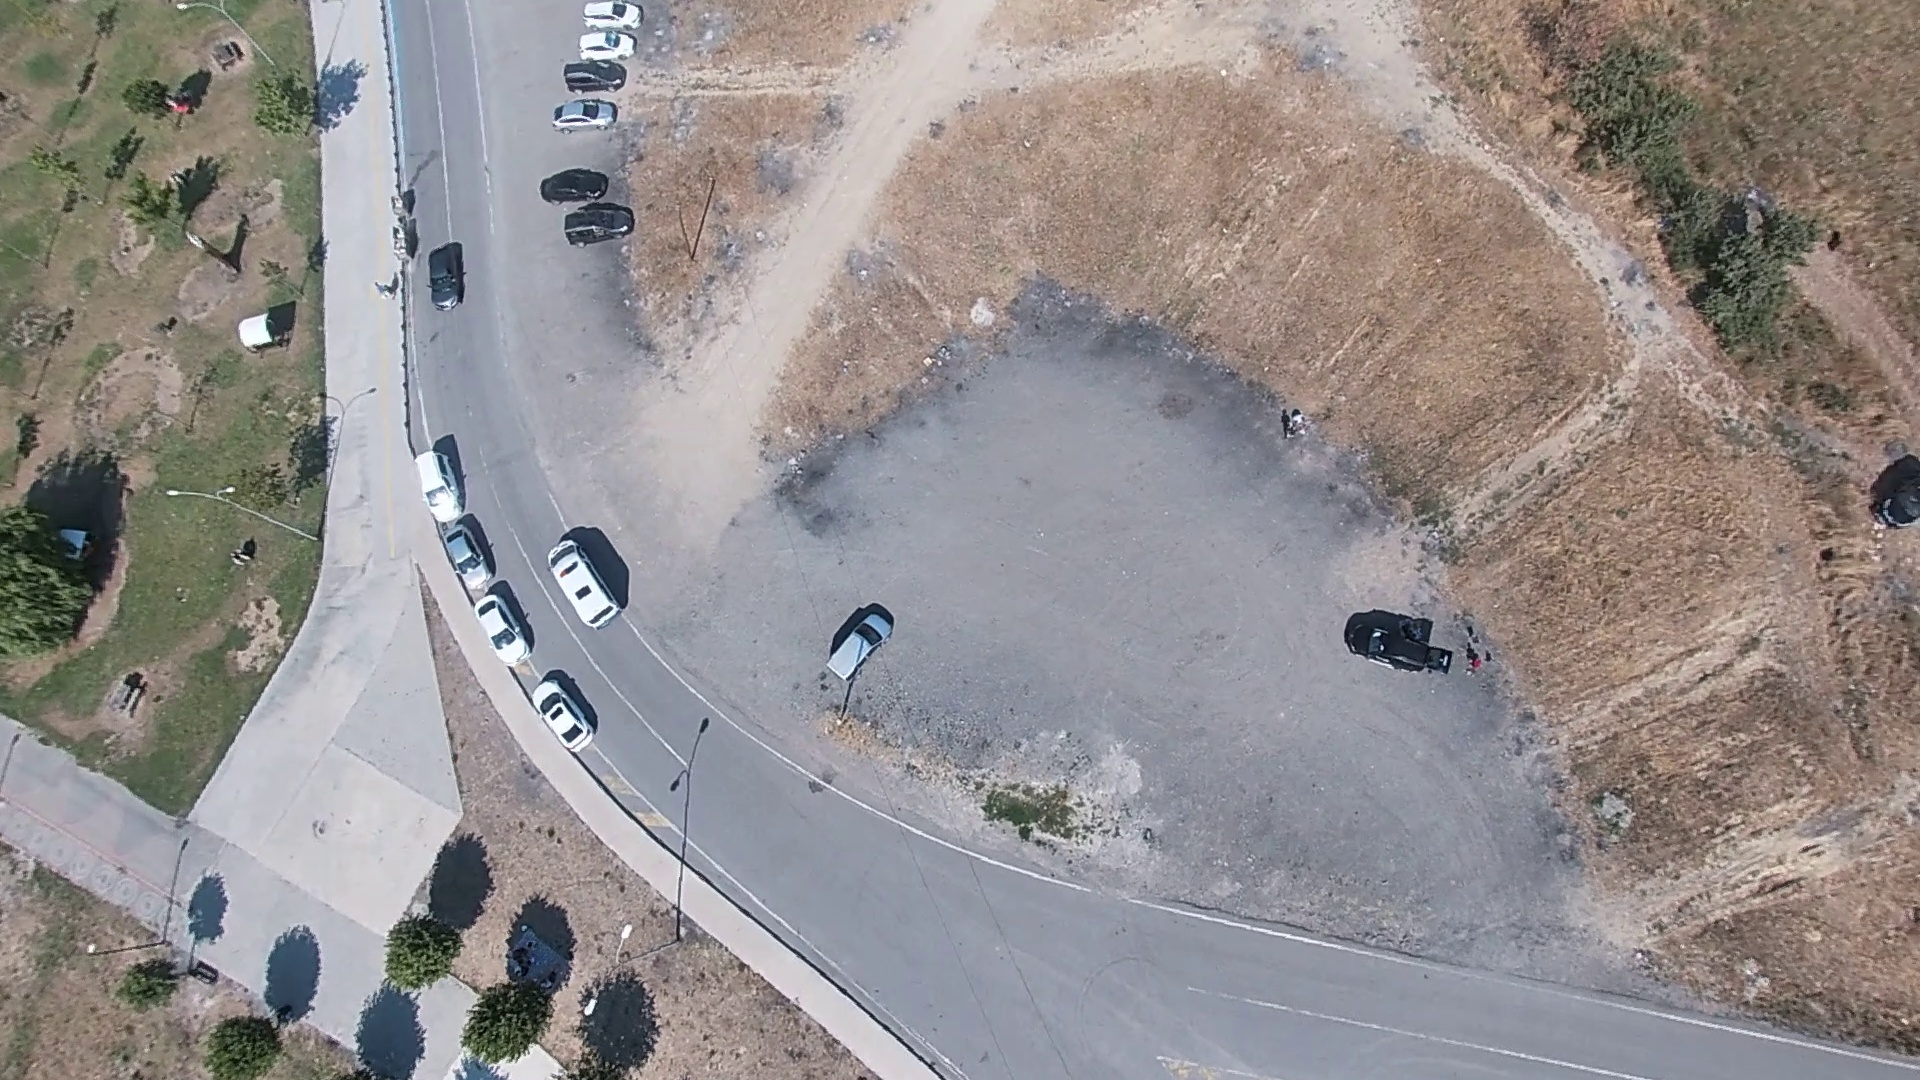araba: (541, 523, 626, 630), (456, 578, 535, 674), (1343, 608, 1453, 677), (814, 601, 893, 686), (528, 677, 593, 760), (435, 530, 494, 591), (410, 454, 465, 516), (541, 162, 610, 203), (560, 202, 631, 241), (428, 243, 470, 309), (548, 93, 620, 127), (558, 61, 632, 89), (576, 29, 644, 57)
insan: (1280, 406, 1301, 444)
